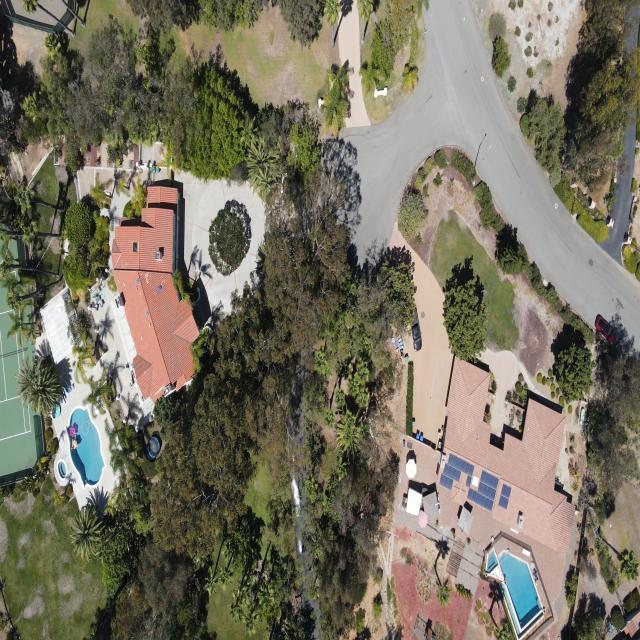solar-panels: (434, 452, 480, 498), (465, 468, 507, 512), (498, 483, 512, 509)
